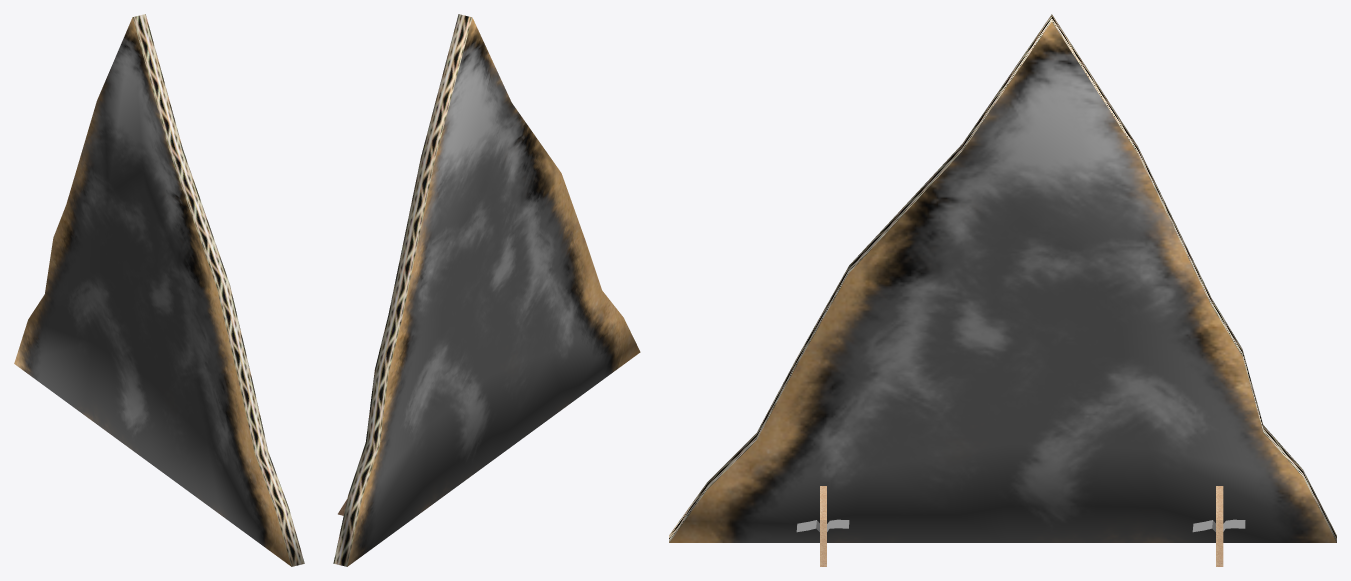
The model's file is Cardboard_mountain2.fbx.
3 renders of one model, left to right at view 1: azimuth 30°, elevation 25°; view 2: azimuth 150°, elevation 25°; view 3: azimuth 270°, elevation 25°, orthographic. The views are drawn at different scales.
Visible parts, largest first — view 1: cardboard_mountain2; view 2: cardboard_mountain2; view 3: cardboard_mountain2.
Part boxes in pixels (<box>): cardboard_mountain2: <box>14,14,304,566</box>; cardboard_mountain2: <box>333,14,640,566</box>; cardboard_mountain2: <box>669,14,1336,566</box>.
Size of the model in its own units: 9.56 by 69.94 by 81.2.
